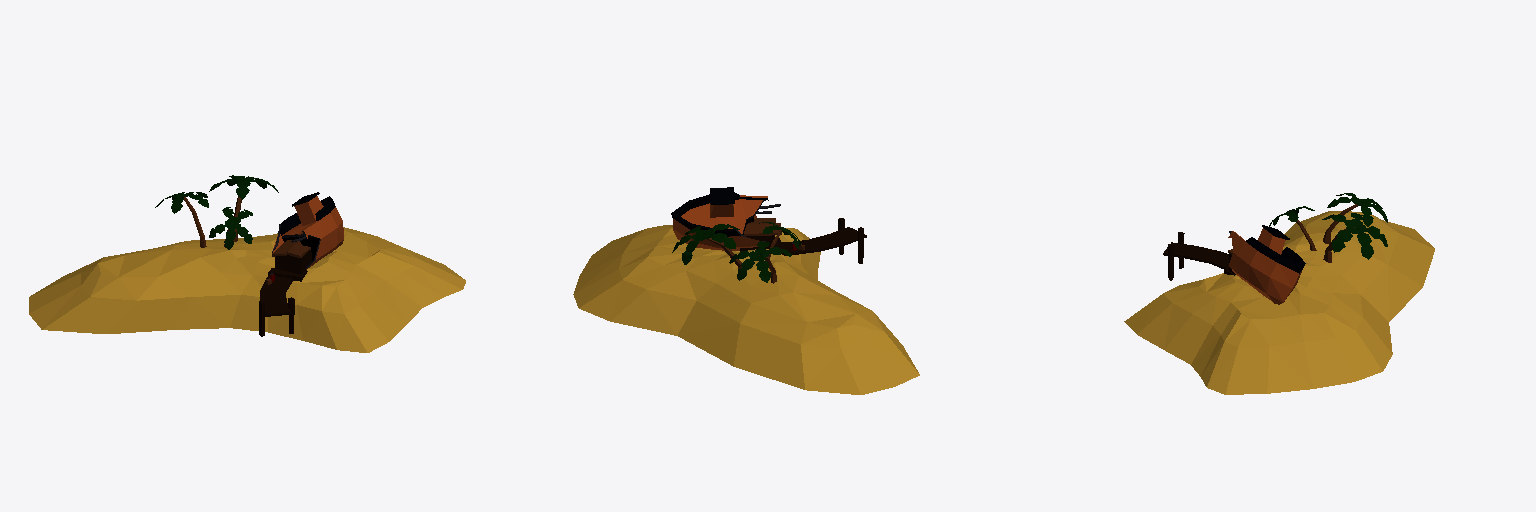
Rendered from scenery_island_1.obj.
The picture shows the model from 3 angles: view 1: azimuth 30°, elevation 25°; view 2: azimuth 150°, elevation 25°; view 3: azimuth 270°, elevation 25°; orthographic projection.
Visible parts, largest first — view 1: Circle.017_Circle.038, Circle.020_Circle.041, Cube.009_Cube.053, Cube.012_Cube.054, Circle.014_Circle.035, Circle.019_Circle.040; view 2: Circle.017_Circle.038, Circle.020_Circle.041, Cube.009_Cube.053, Circle.015_Circle.036, Circle.019_Circle.040, Cube.012_Cube.054; view 3: Circle.017_Circle.038, Circle.020_Circle.041, Cube.009_Cube.053, Circle.019_Circle.040, Circle.015_Circle.036.
Boxes of the visible parts, x1,y1,x2,y2 form: Circle.017_Circle.038: [29, 227, 465, 352]; Circle.020_Circle.041: [272, 192, 343, 269]; Cube.009_Cube.053: [259, 275, 294, 336]; Cube.012_Cube.054: [272, 240, 311, 274]; Circle.014_Circle.035: [209, 207, 252, 249]; Circle.019_Circle.040: [209, 175, 278, 199]; Circle.017_Circle.038: [573, 225, 919, 394]; Circle.020_Circle.041: [671, 187, 780, 250]; Cube.009_Cube.053: [782, 218, 866, 263]; Circle.015_Circle.036: [729, 241, 791, 282]; Circle.019_Circle.040: [672, 224, 739, 264]; Cube.012_Cube.054: [740, 218, 781, 251]; Circle.017_Circle.038: [1124, 211, 1434, 394]; Circle.020_Circle.041: [1228, 225, 1305, 304]; Cube.009_Cube.053: [1163, 232, 1228, 280]; Circle.019_Circle.040: [1322, 213, 1387, 259]; Circle.015_Circle.036: [1327, 193, 1387, 226].
Size of the model in its own units: 247 by 66.92 by 182.